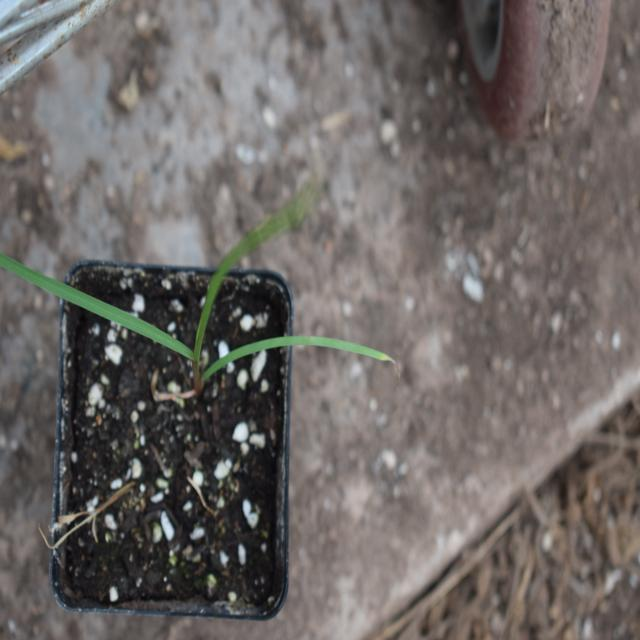green_foxtail: (0, 187, 349, 405)
